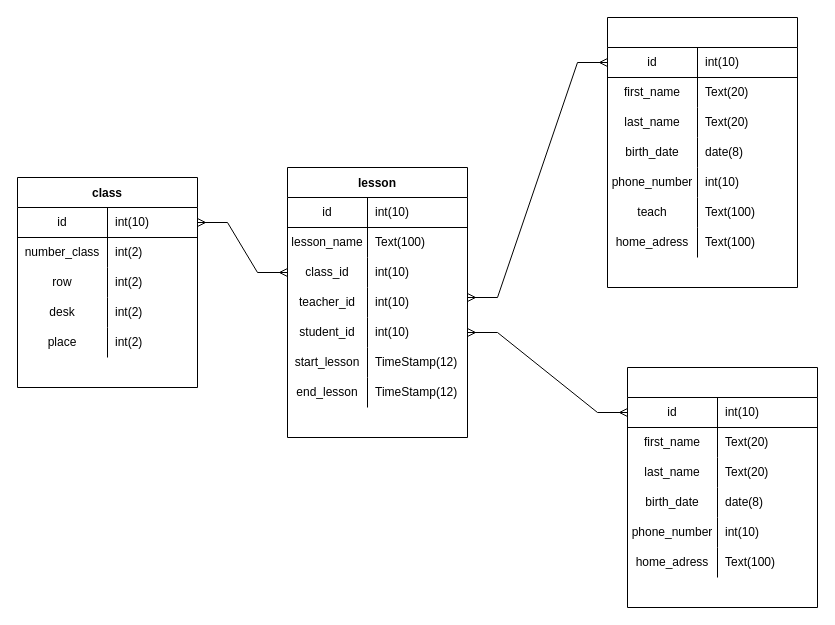
The diagram is 835 pixels wide and 625 high, and some of its shapes have lost their labels. The box of each missing label's shape, as (x1, y1, x2, y2) in pixels:
student: (626, 366, 818, 608)
tacher: (606, 16, 798, 288)
